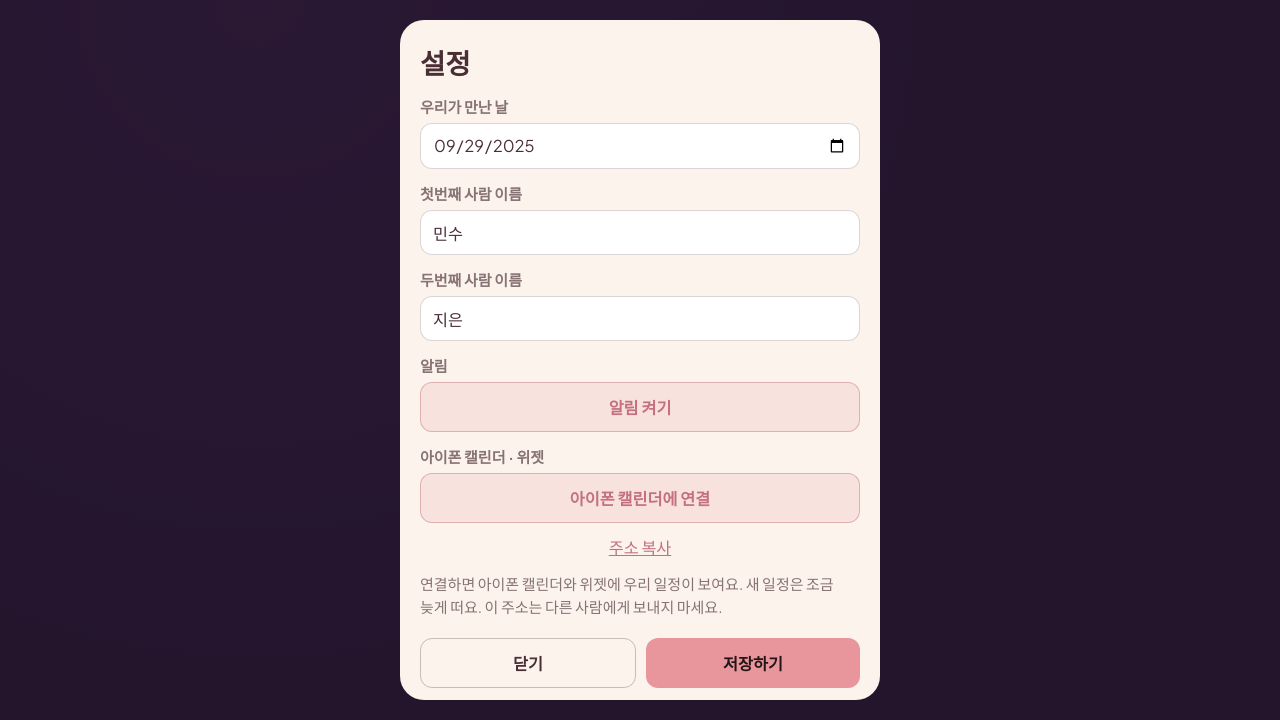
SettingsModal › says so when the address cannot be copied
Click the button "주소 복사" at (640, 547), box [420,529,860,565]
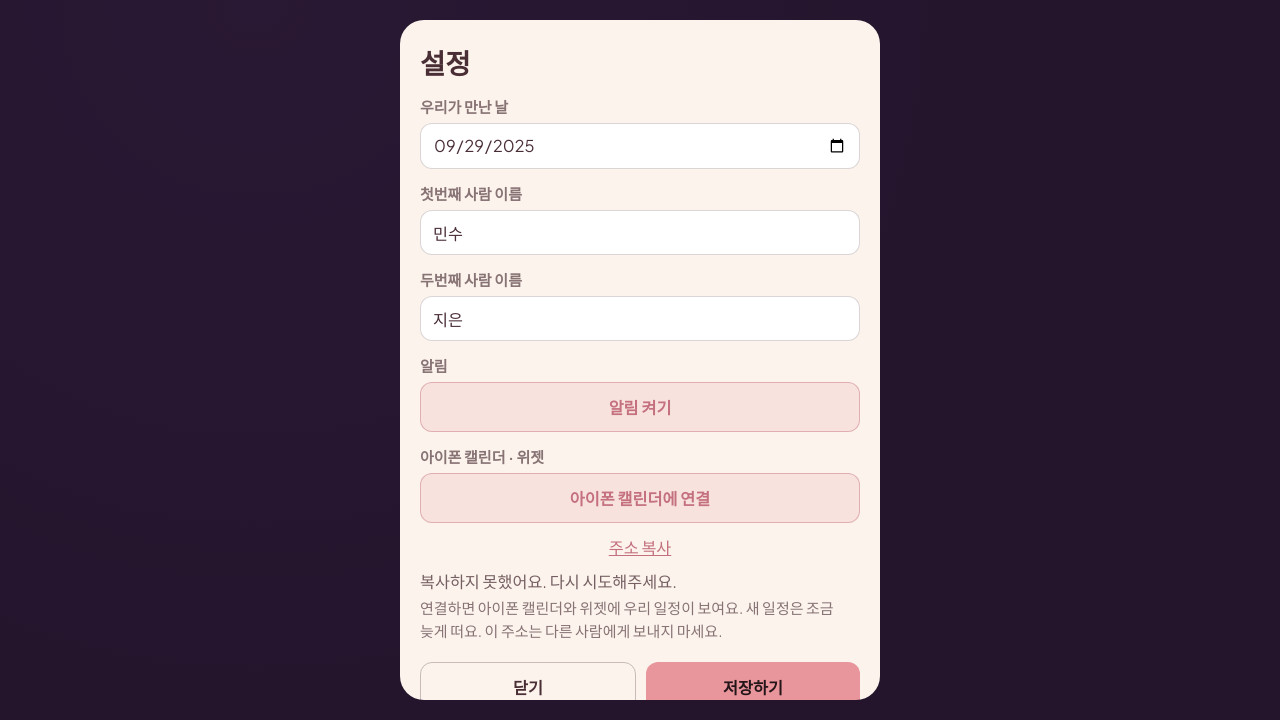
Expected: the text "복사하지 못했어요. 다시 시도해주세요." is shown, [420,571,677,592]
